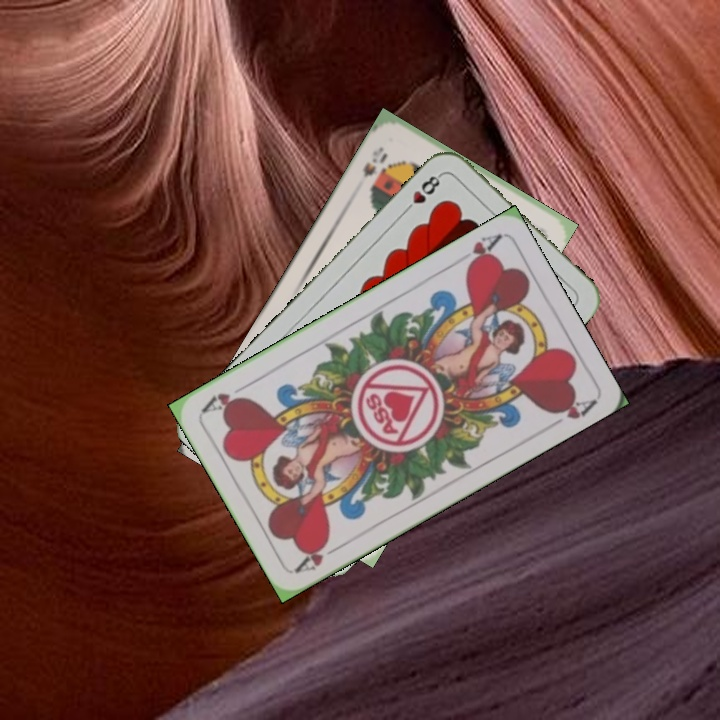H8: (399, 170, 445, 217)
HA: (291, 536, 346, 576), (460, 230, 503, 273)
SO: (358, 142, 390, 193)
